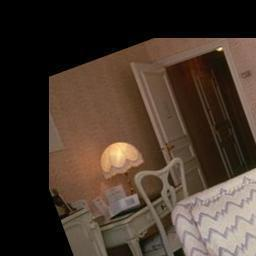Puerta: (131, 52, 211, 197)
